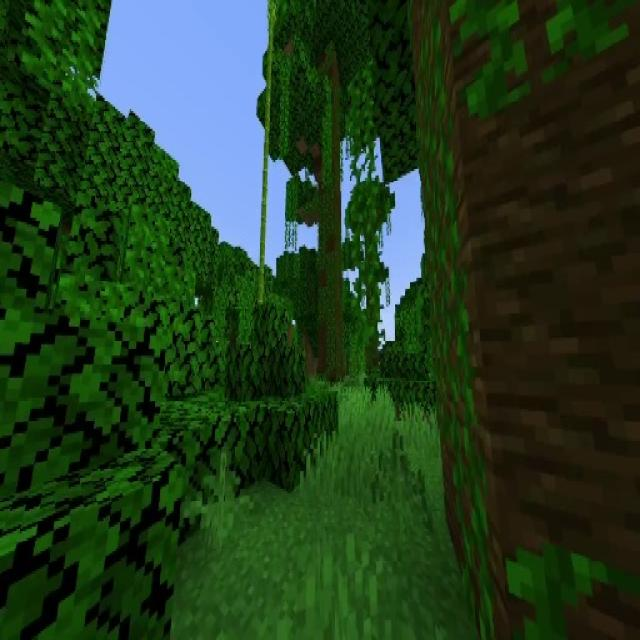jungle: (263, 20, 384, 382), (343, 180, 397, 358)
jungle_log: (416, 14, 640, 640), (320, 162, 342, 376)
